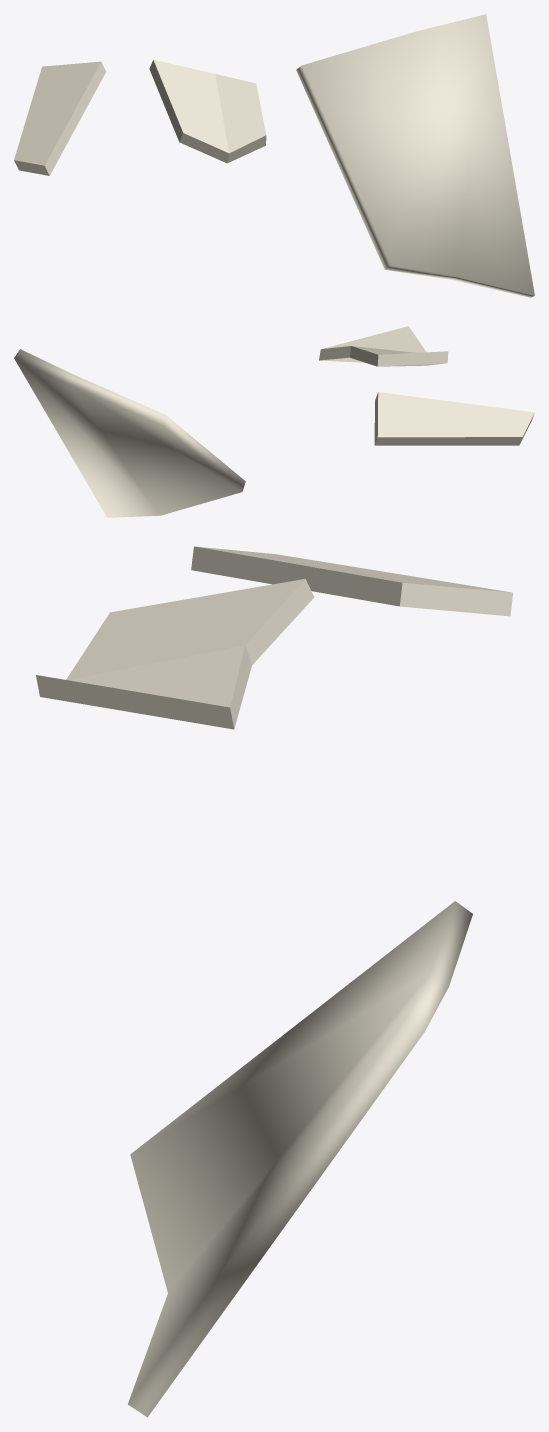
3 views of the same model, one above another, from view 1: azimuth 30°, elevation 25°; view 2: azimuth 150°, elevation 25°; view 3: azimuth 270°, elevation 25° (orthographic). The views are drawn at different scales.
Visible parts, largest first — view 1: ZA_9a302679458bae04; view 2: ZA_9a302679458bae04; view 3: ZA_9a302679458bae04.
Boxes of the visible parts, left/top/right/bottom form: ZA_9a302679458bae04: left=14, top=14, right=534, bottom=297; ZA_9a302679458bae04: left=14, top=326, right=534, bottom=517; ZA_9a302679458bae04: left=36, top=546, right=512, bottom=1417.
Bounding box in the file's own units: 0.0227 × 0.0123 × 0.00996.
